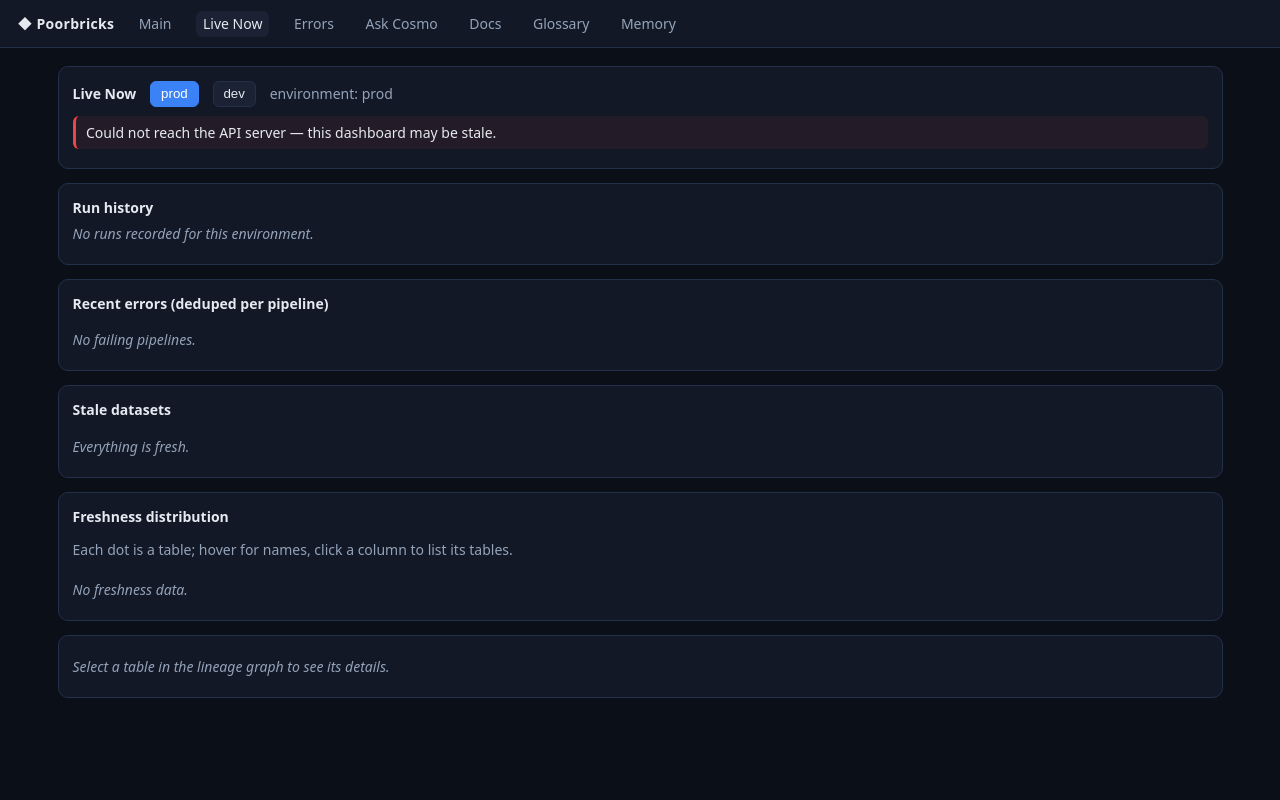
Test: Live Now page › navigates from the nav bar between pages
This screenshot has width=1280, height=800.
What coordinates should you click on to do the following:
click the link with test id "nav-main"
I would click on:
 (156, 24)
Its box is [139,14,172,33].
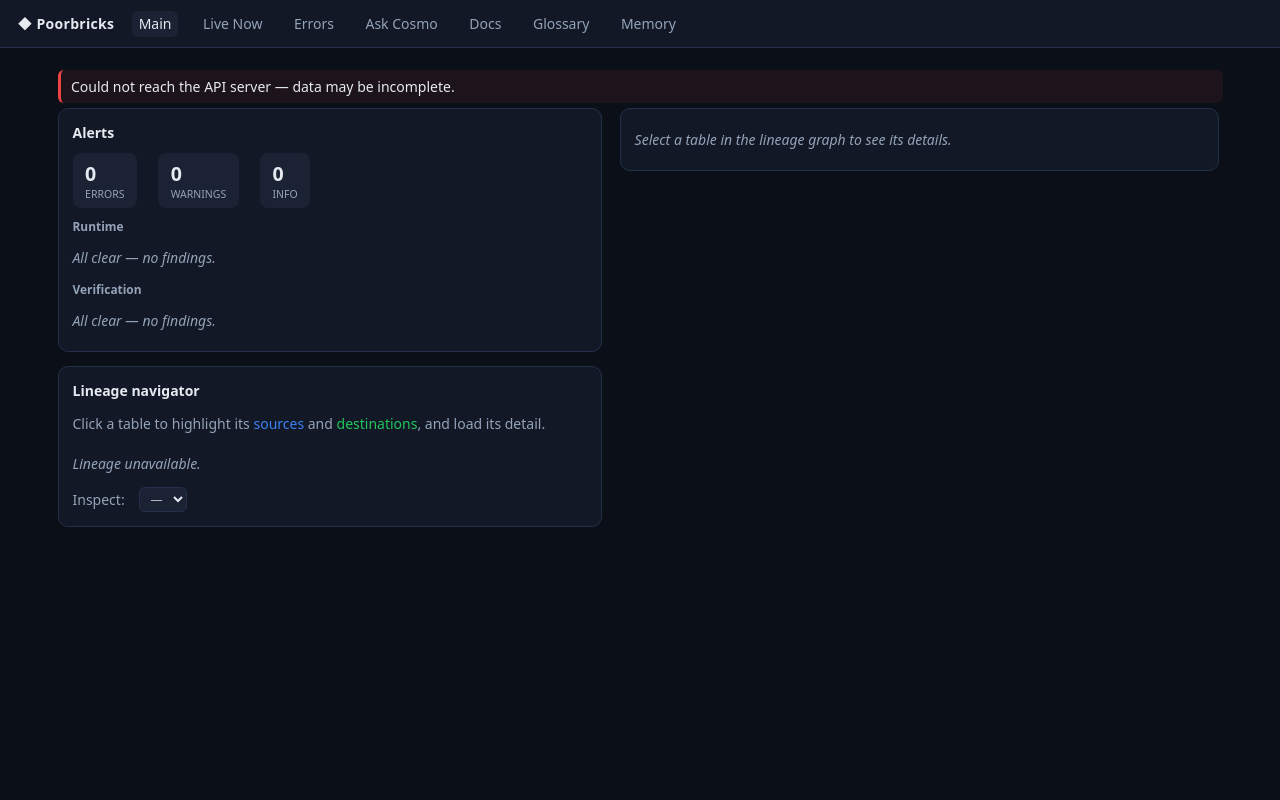
Now the element with test id "main-page" is shown
What coordinates should you click on to do the following:
click the link with test id "nav-live-now"
I would click on:
 (233, 24)
Its box is [203,14,262,33].
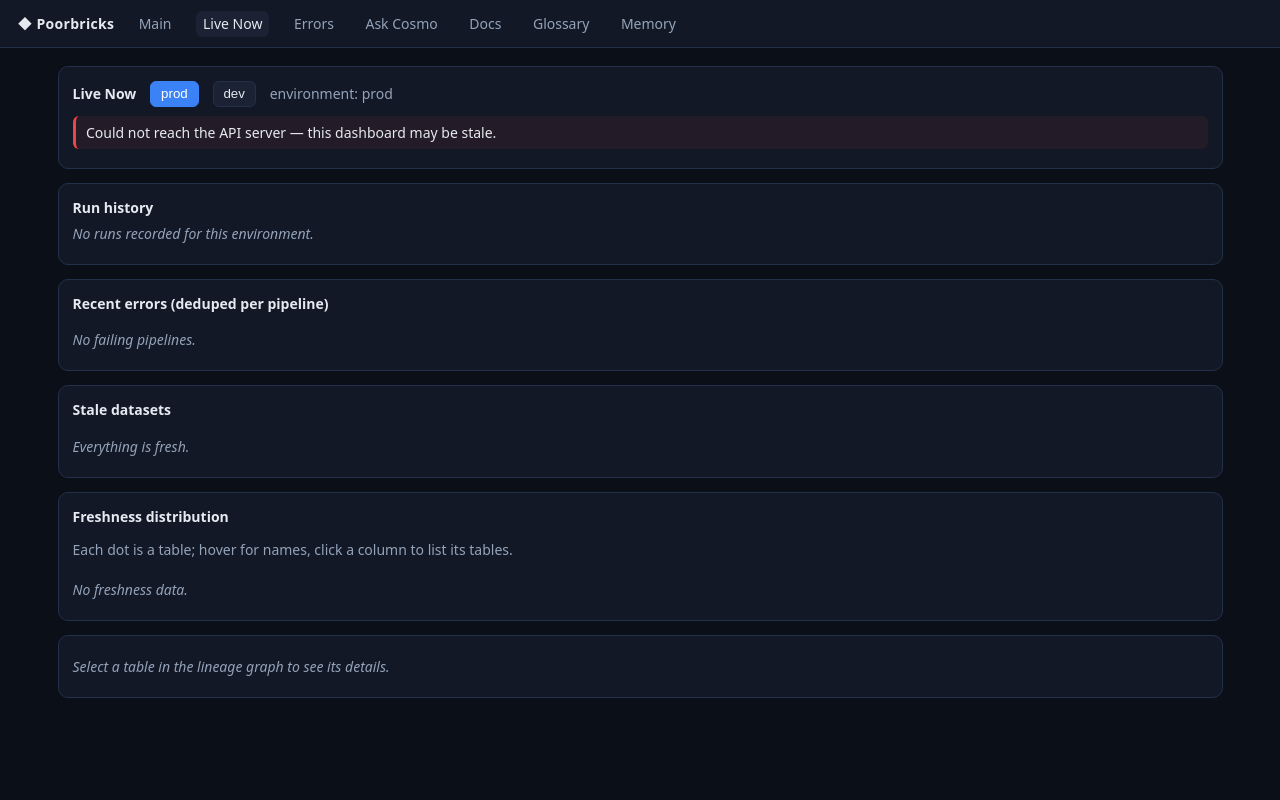
Now the element with test id "live-page" is shown
